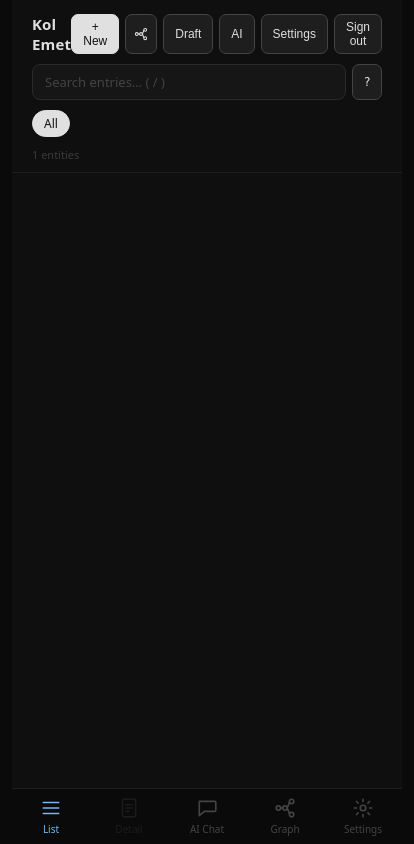
Test: WikiLayout workspace group › an owner renames it: the typed name reaches the API and the group shows it
Click the 5th button with class "tab-btn": x=363, y=816 [324,789,402,843]
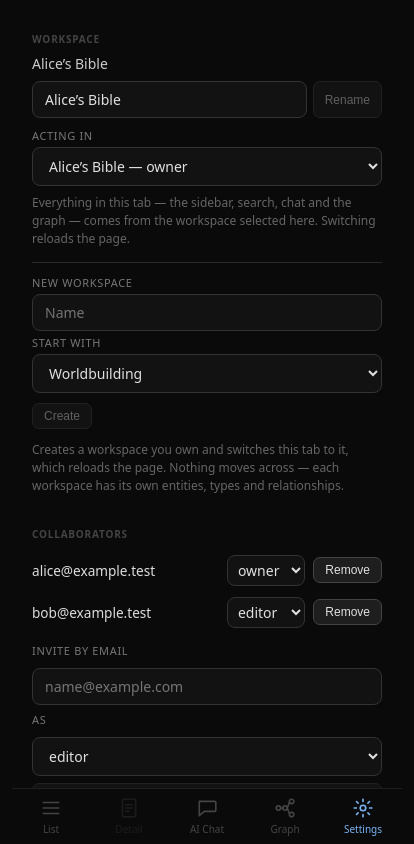
Replace the text in the 1st field with class "workspace-input" with "The Signal Archive": x=169, y=100 [32,81,307,118]
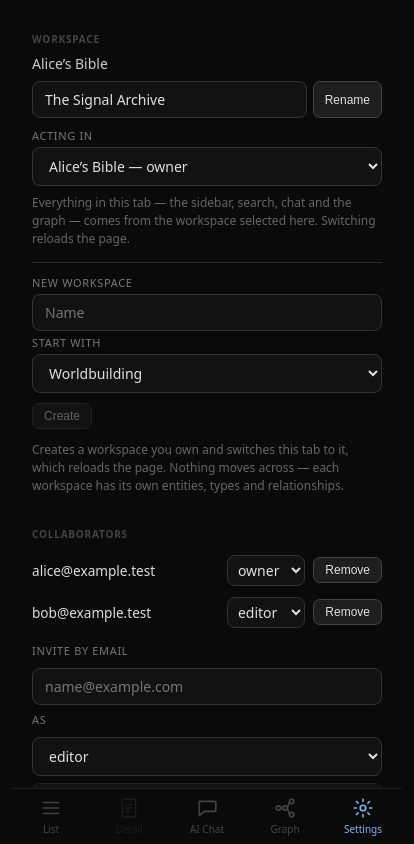
Submit the form with class "workspace-rename", box [32,81,382,118]
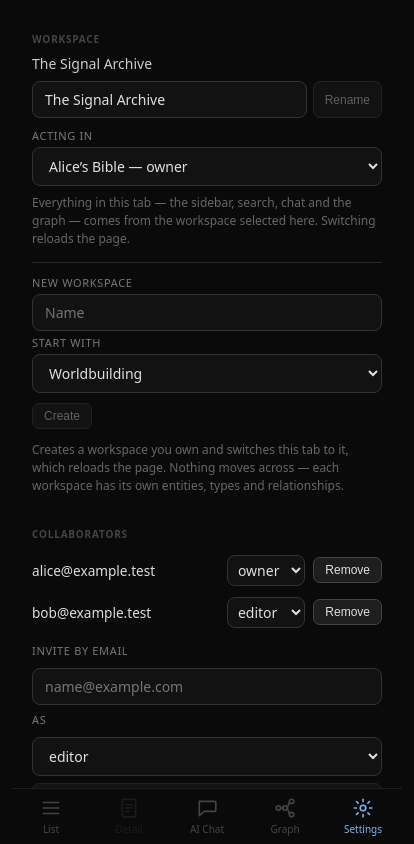
Now the text "The Signal Archive" is shown, box [32,54,152,73]
Now the text with class "workspace-name" reads "The Signal Archive", box [32,54,152,73]
